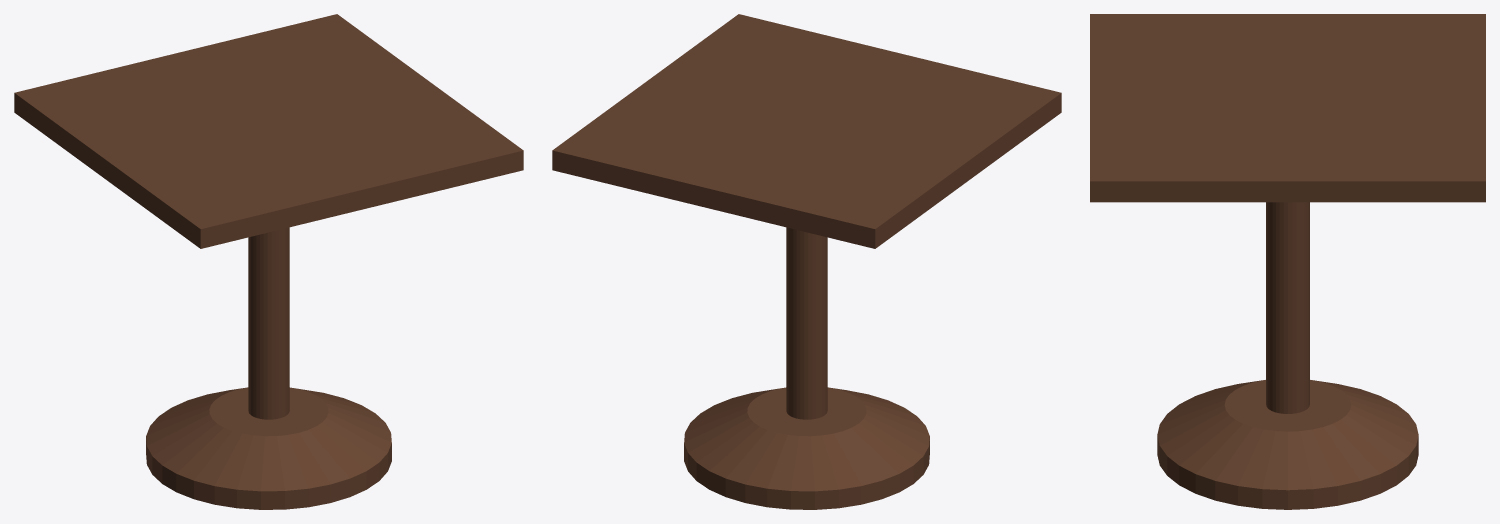
Rendered from Table.fbx.
The picture shows the model from 3 angles, left to right: view 1: azimuth 30°, elevation 25°; view 2: azimuth 150°, elevation 25°; view 3: azimuth 270°, elevation 25°; orthographic projection. The views are drawn at different scales.
Parts seen in each view (by area): view 1: Cube; view 2: Cube; view 3: Cube.
Boxes of the visible parts, box(x1,y1,x2,y2) form: Cube: box(14, 14, 523, 509); Cube: box(552, 14, 1061, 509); Cube: box(1090, 14, 1485, 509).
Size of the model in its own units: 303 by 301 by 303.
